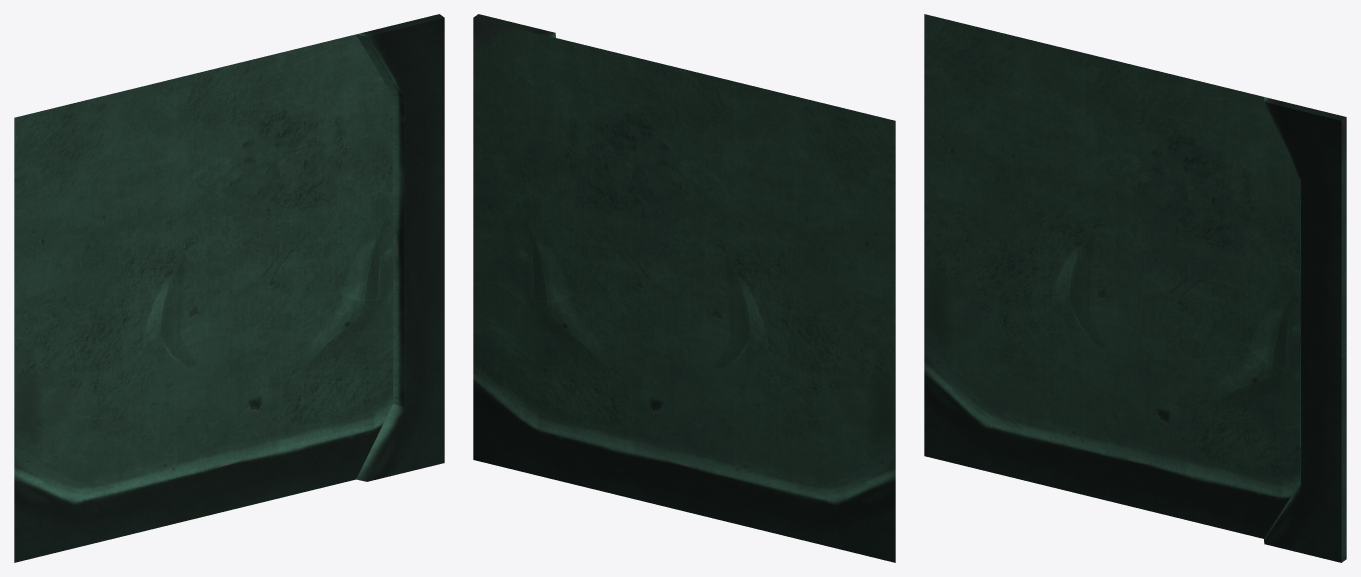
Rendered from GreenWallTrim.fbx.
3 renders of one model, left to right at view 1: azimuth 30°, elevation 25°; view 2: azimuth 150°, elevation 25°; view 3: azimuth 330°, elevation 25°, orthographic.
Parts seen in each view (by area): view 1: ImageTile3x3, GreenWallTrim; view 2: ImageTile3x3; view 3: ImageTile3x3, GreenWallTrim.
Part boxes in pixels (<box>): ImageTile3x3: <box>14,34,392,562</box>; GreenWallTrim: <box>356,14,444,481</box>; ImageTile3x3: <box>473,18,895,562</box>; ImageTile3x3: <box>924,14,1300,538</box>; GreenWallTrim: <box>1264,97,1346,562</box>.
Bounding box in the file's own units: 3 × 3 × 0.0636.
1 material, 1 textured.
